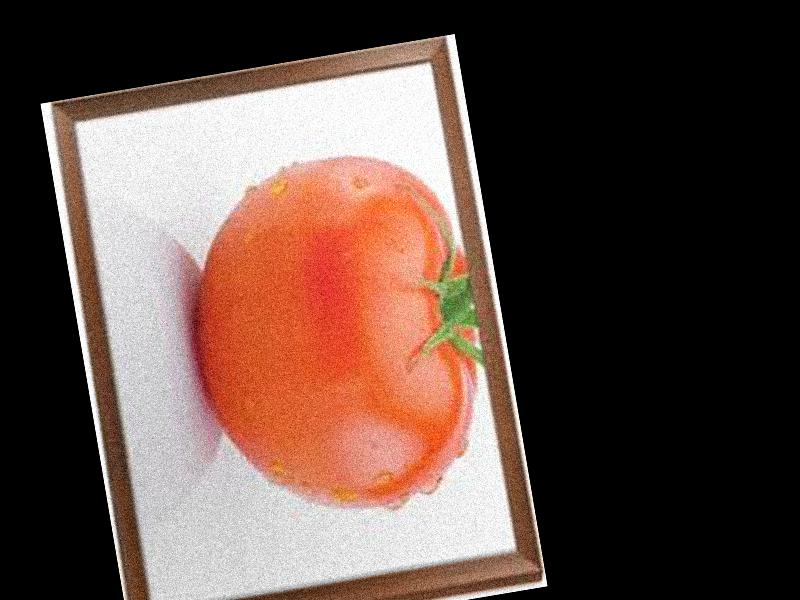Tomato: (169, 138, 506, 532)
